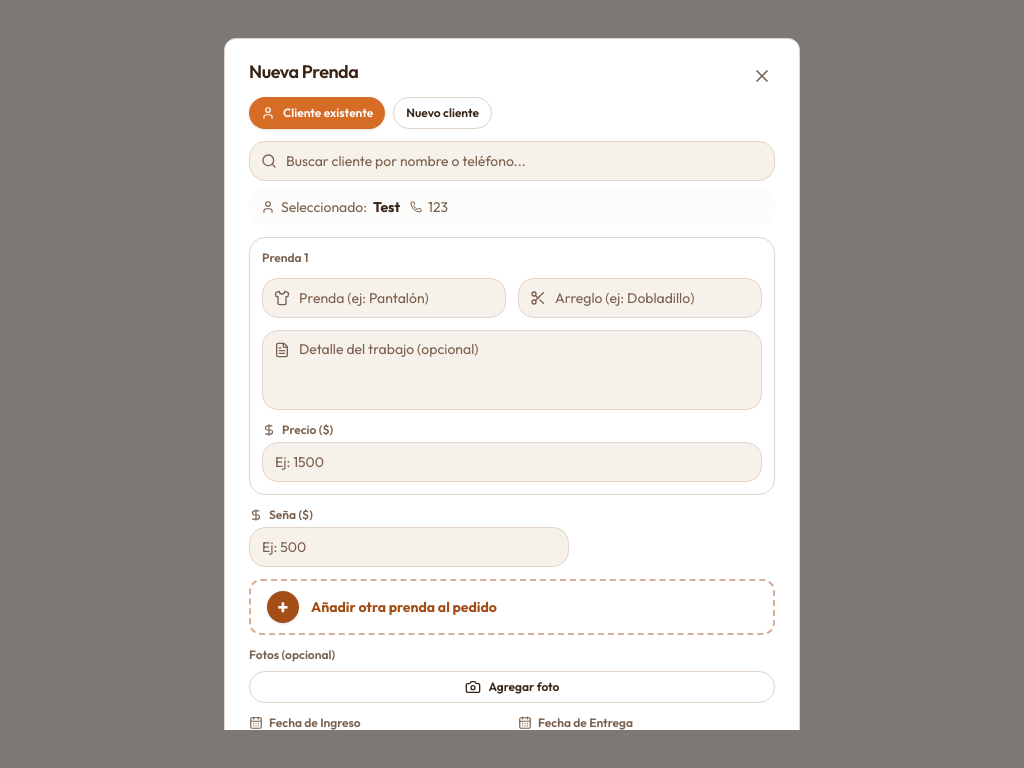
Test case: Bug A3 — suggestions array sincronizado al eliminar item › [A3] después de eliminar item[0], el item restante no hereda sus sugerencias
This screenshot has width=1024, height=768.
Note: Añadir segundo item
Click the button "+ Añadir otra prenda al pedido" at (283, 607), box [249,579,775,635]
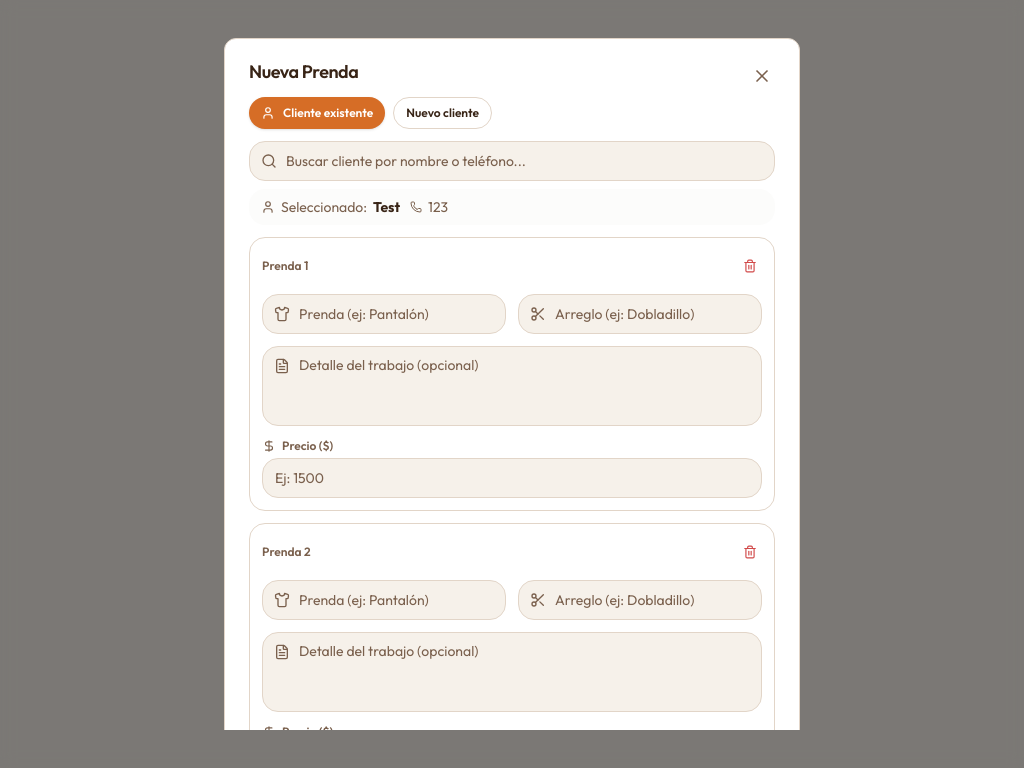
Note: Item[0]: "pantalon" → genera sugerencias de dobladillo
Type "pantalon" into the 1st field with placeholder "Prenda (ej: Pantalón)" at (384, 314), box [262,294,506,334]
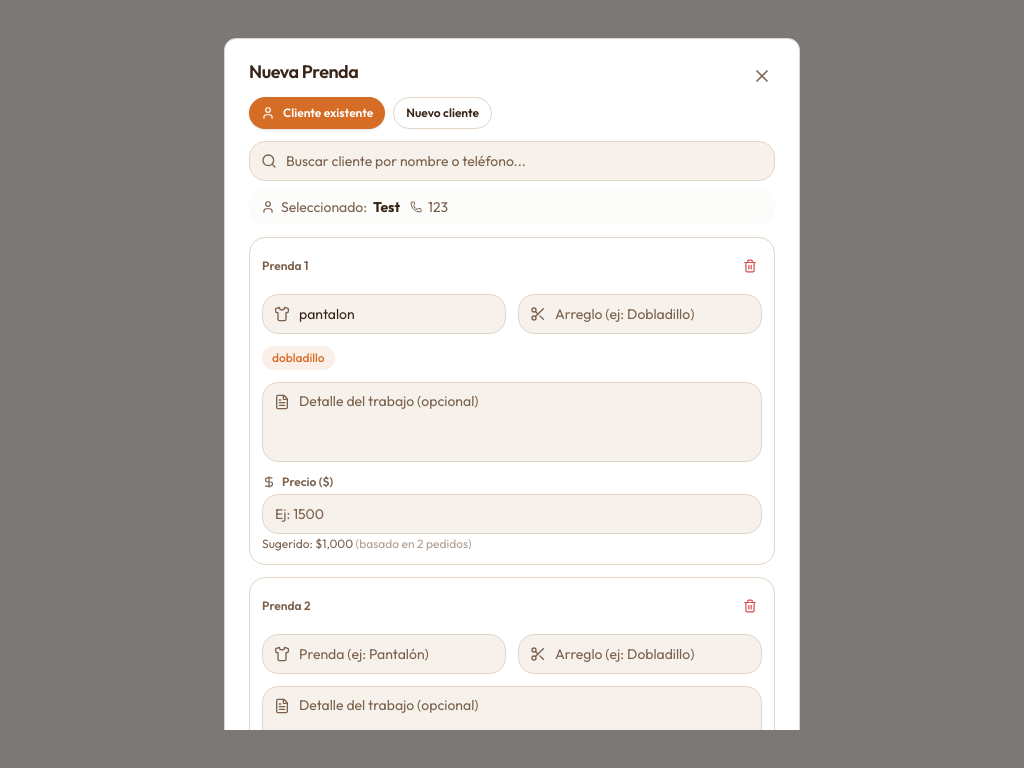
expect the button "dobladillo" is shown: met, box [262,346,334,370]
Note: Eliminar item[0]
Click the 1st button named "eliminar prenda" at (750, 266), box [738,250,762,282]
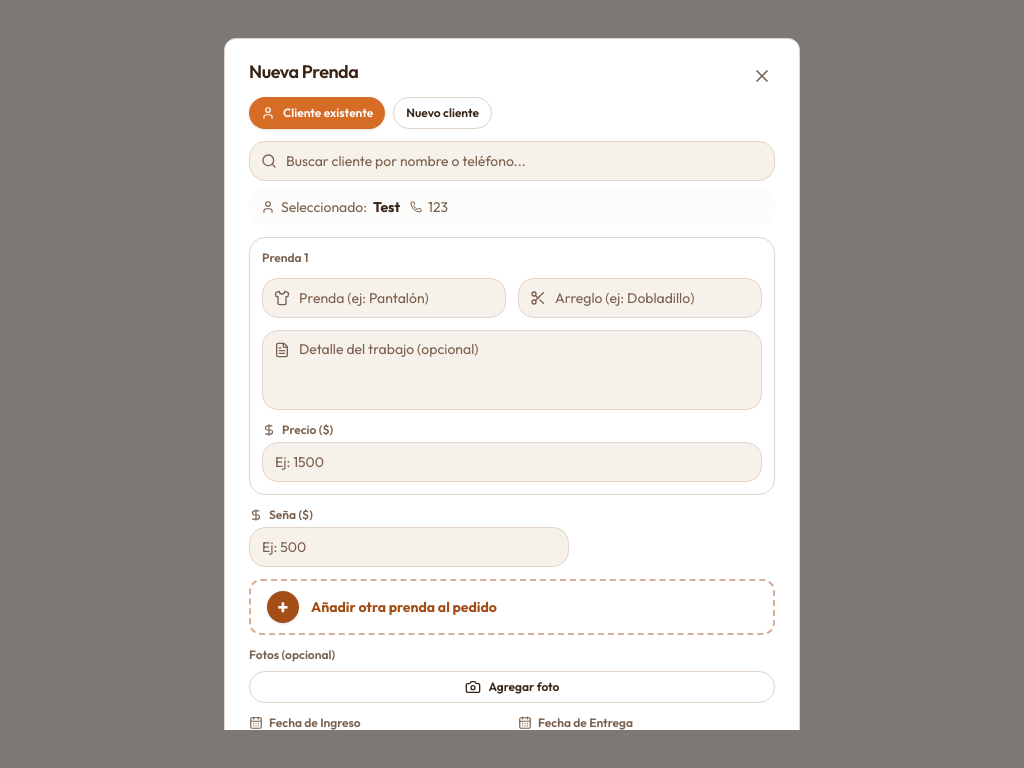
expect no buttons "dobladillo" are shown: met
